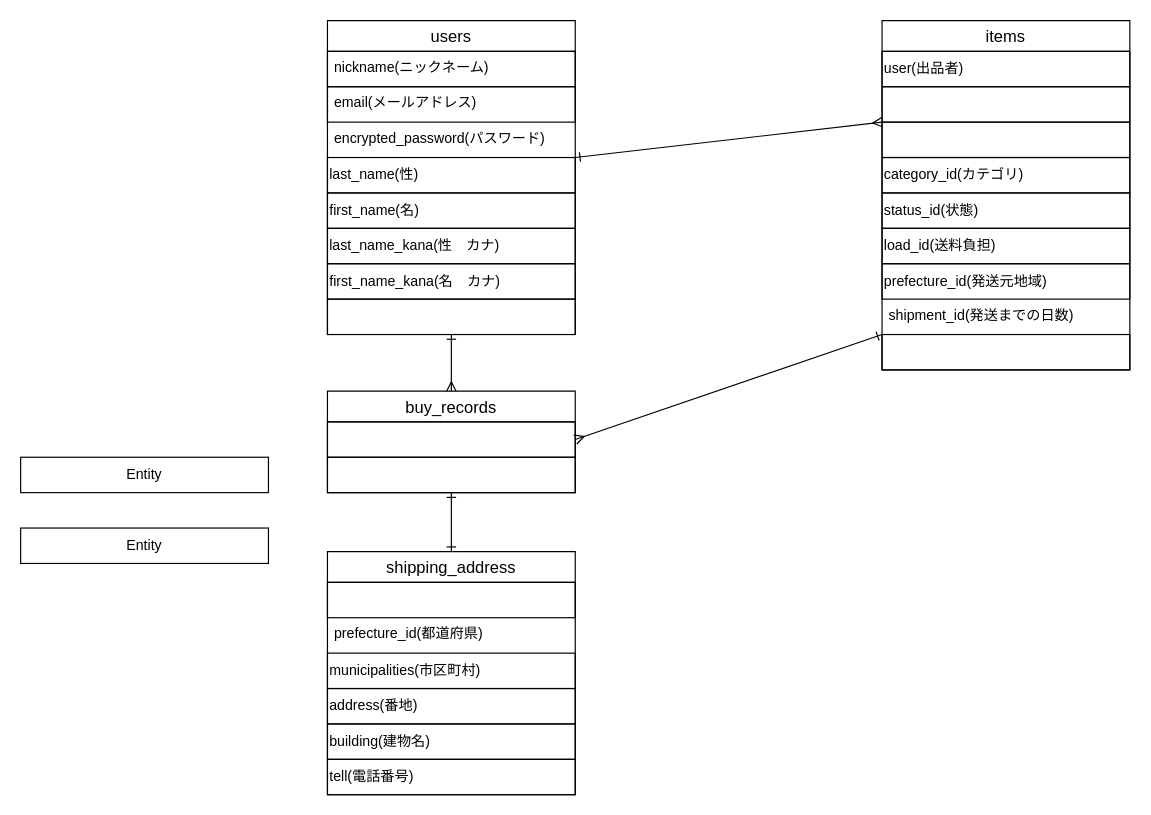
The diagram is 1151 pixels wide and 815 high, and some of its shapes have lost their labels. The shapes that lost their labels are listed below. From the top down, each one's centre as x and y in pixels, then its label:
the point at 1005,104: item_name(商品名)
the point at 1005,139: item_info(説明)
the point at 450,316: birthday(生年月日)
the point at 1005,351: item_place(価格)
the point at 450,439: user(購入者)
the point at 450,474: item(商品)
the point at 450,599: post_num(郵便番号)
